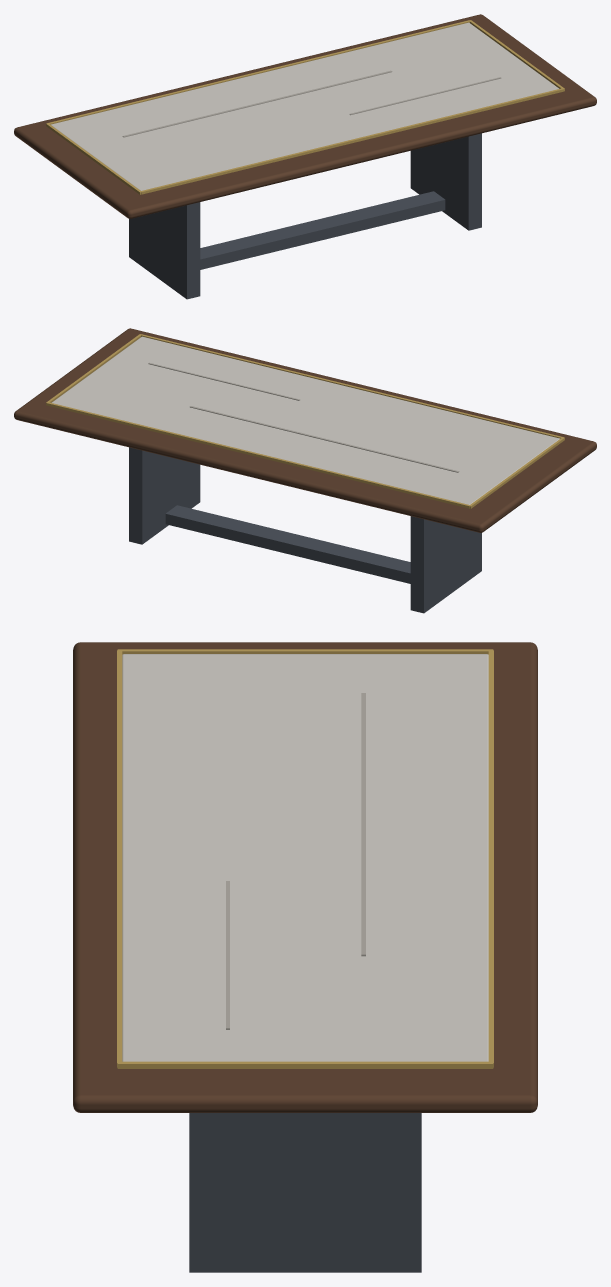
The model's file is mesa-reuniao-nobre.glb.
The picture shows the model from 3 angles, top to bottom: view 1: azimuth 30°, elevation 25°; view 2: azimuth 150°, elevation 25°; view 3: azimuth 270°, elevation 25°; orthographic projection. The views are drawn at different scales.
Visible parts, largest first — view 1: mesa-reuniao-nobre_malha; view 2: mesa-reuniao-nobre_malha; view 3: mesa-reuniao-nobre_malha.
Part boxes in pixels (x1,y1,x2,y2): mesa-reuniao-nobre_malha: (14, 14, 596, 299); mesa-reuniao-nobre_malha: (14, 328, 596, 613); mesa-reuniao-nobre_malha: (73, 642, 537, 1272).
Bounding box in the file's own units: 2.8 × 0.775 × 1.2.
